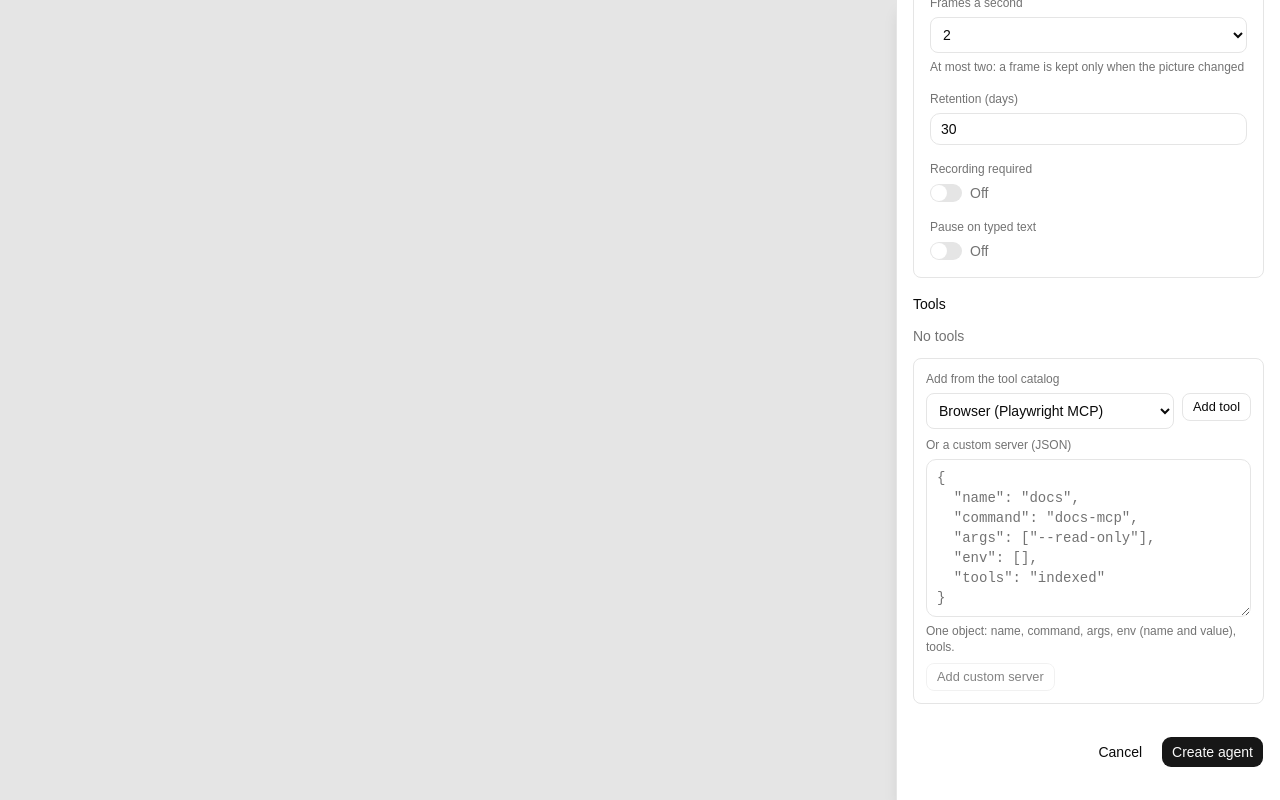
Test case: AgentSheet: create › refuses a custom server that is not JSON, and keeps the text for correction
(page scrolled)
Type "not json" into the text box labelled "Or a custom server (JSON)" at (1088,538), box [926, 459, 1251, 617]
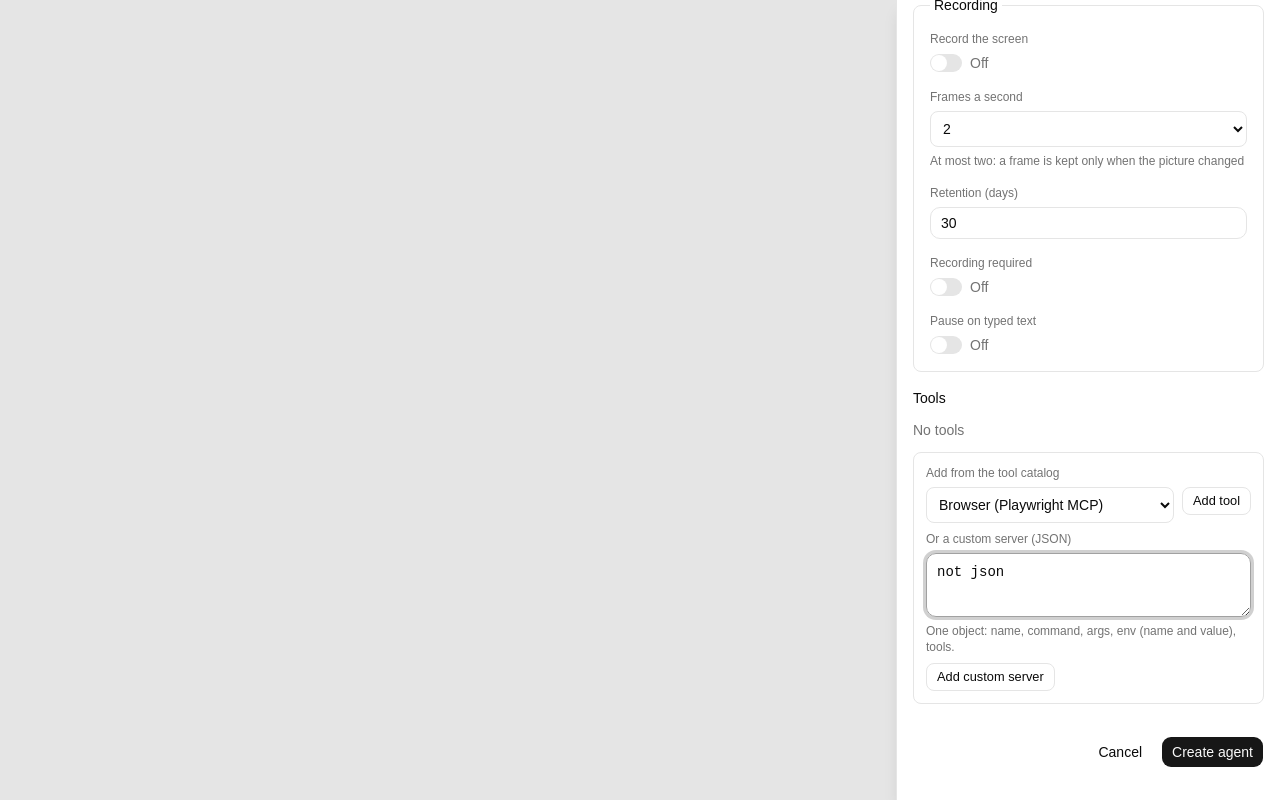
Click the button "Add custom server" at (990,677), box [926, 663, 1055, 691]
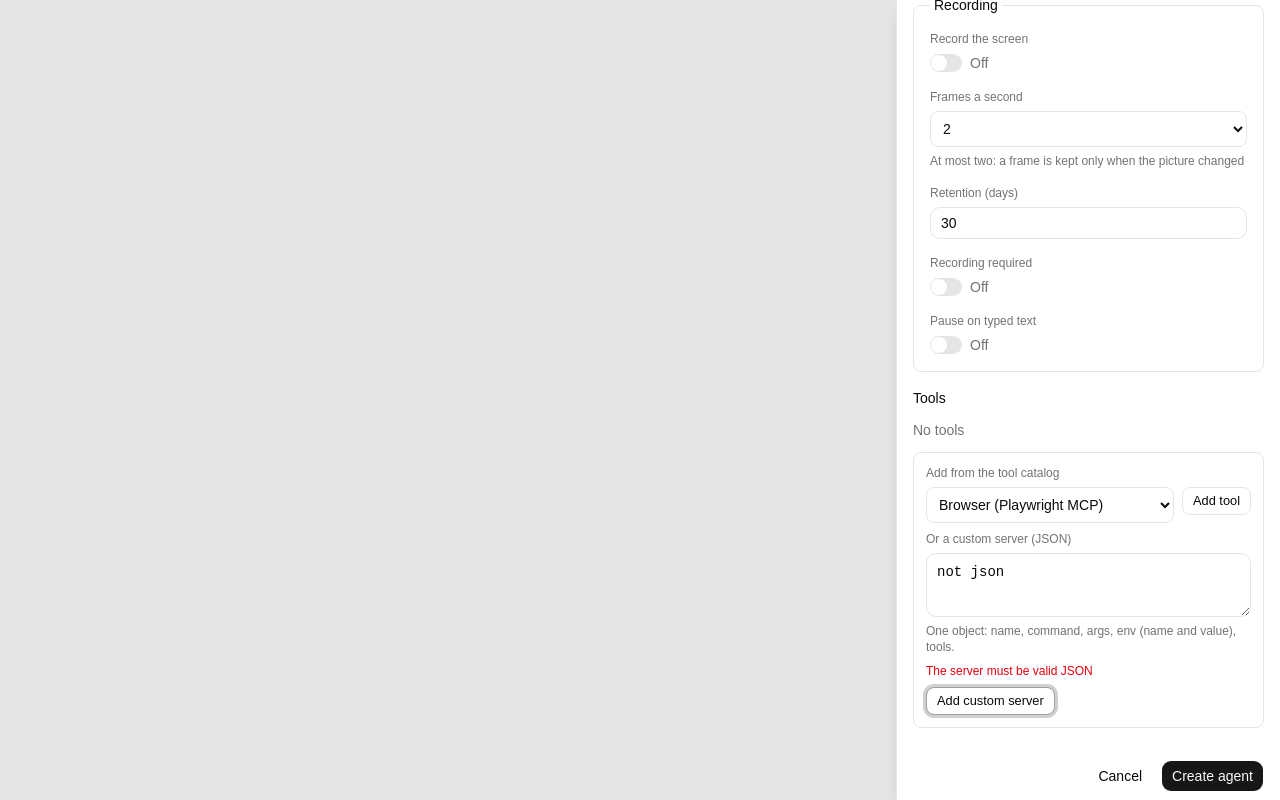
expect the message reads "The server must be valid JSON": met, box [926, 664, 1093, 678]
